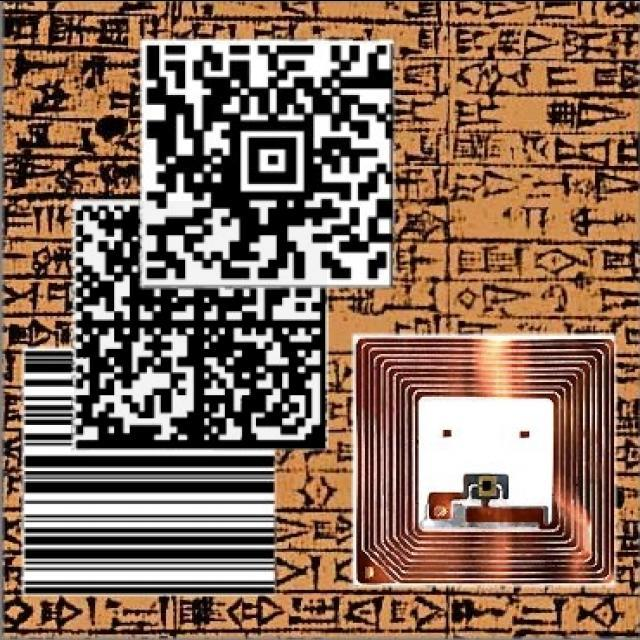Data-Matrix: (74, 200, 327, 449)
